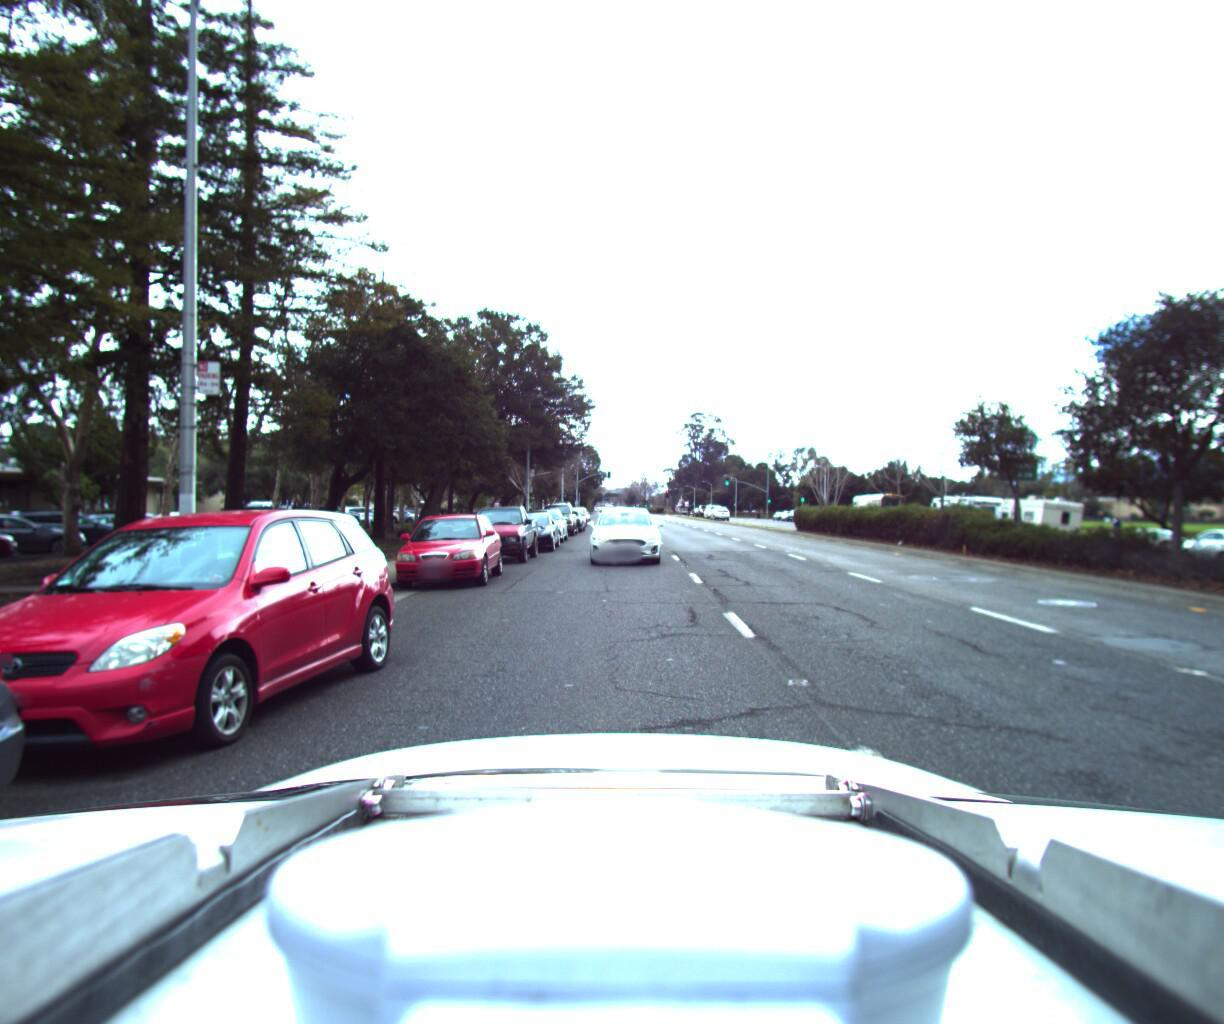bus: (849, 483, 907, 525)
car: (0, 496, 417, 805), (385, 503, 513, 591), (460, 495, 542, 561), (583, 500, 663, 565), (1101, 519, 1199, 555), (501, 500, 564, 550), (1172, 517, 1224, 562), (523, 500, 570, 539), (537, 492, 580, 532), (552, 500, 587, 527)
other_vehicle: (990, 484, 1089, 541), (924, 481, 1006, 536)
